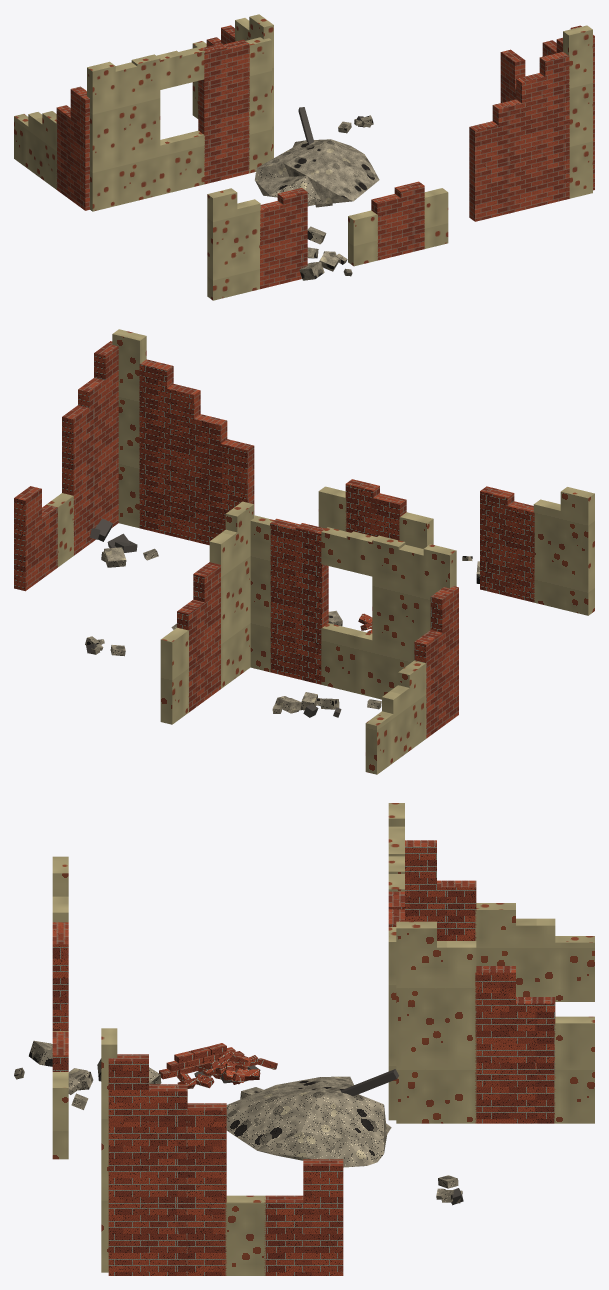
Rendered from ruinset_courtyard.glb.
3 views of the same model, one above another, from view 1: azimuth 30°, elevation 25°; view 2: azimuth 150°, elevation 25°; view 3: azimuth 270°, elevation 25° (orthographic). The views are drawn at different scales.
Parts seen in each view (by area): view 1: ruinset_courtyard-col; view 2: ruinset_courtyard-col; view 3: ruinset_courtyard-col.
Boxes of the visible parts, x1,y1,x2,y2 form: ruinset_courtyard-col: [14, 14, 594, 300]; ruinset_courtyard-col: [14, 329, 594, 774]; ruinset_courtyard-col: [14, 803, 594, 1275].
Size of the model in its own units: 7.29 by 2.83 by 6.47.
4 materials, 3 textured.
